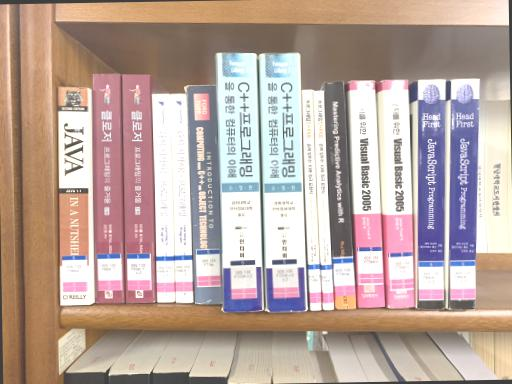book-spine: (218, 53, 263, 312), (261, 53, 306, 311), (349, 81, 385, 307), (449, 79, 481, 310), (188, 85, 221, 304), (383, 80, 414, 308), (325, 82, 356, 309), (123, 74, 153, 303), (58, 87, 89, 305), (417, 80, 446, 310), (93, 74, 122, 302), (171, 94, 193, 303), (153, 94, 175, 302), (314, 91, 334, 309), (302, 90, 321, 311)
